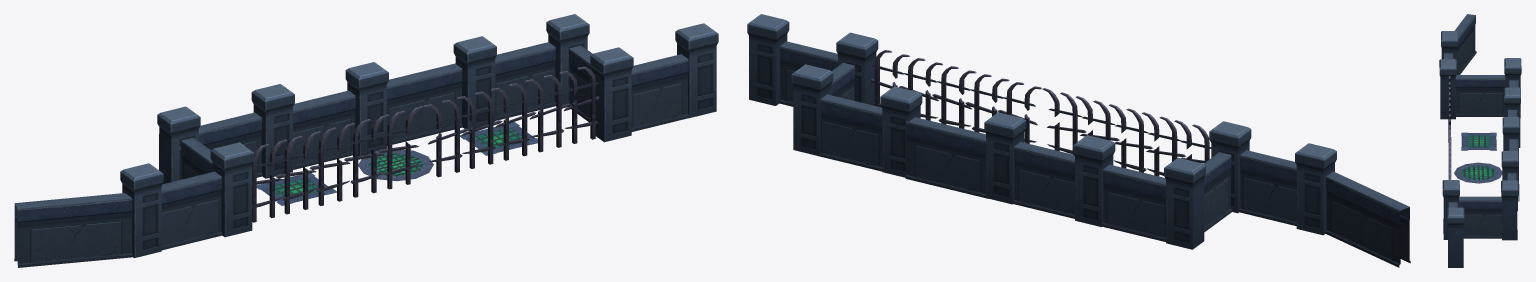
File: chengqiang.FBX
The picture shows the model from 3 angles, left to right: view 1: azimuth 30°, elevation 25°; view 2: azimuth 150°, elevation 25°; view 3: azimuth 270°, elevation 25°; orthographic projection. The views are drawn at different scales.
Visible parts, largest first — view 1: Area_10_2; view 2: Area_10_2; view 3: Area_10_2.
Part boxes in pixels (left/top/right/bottom): Area_10_2: left=14, top=14, right=718, bottom=267; Area_10_2: left=747, top=14, right=1410, bottom=267; Area_10_2: left=1439, top=14, right=1521, bottom=267.
Size of the model in its own units: 5746 by 642 by 919.
1 material, 1 textured.
